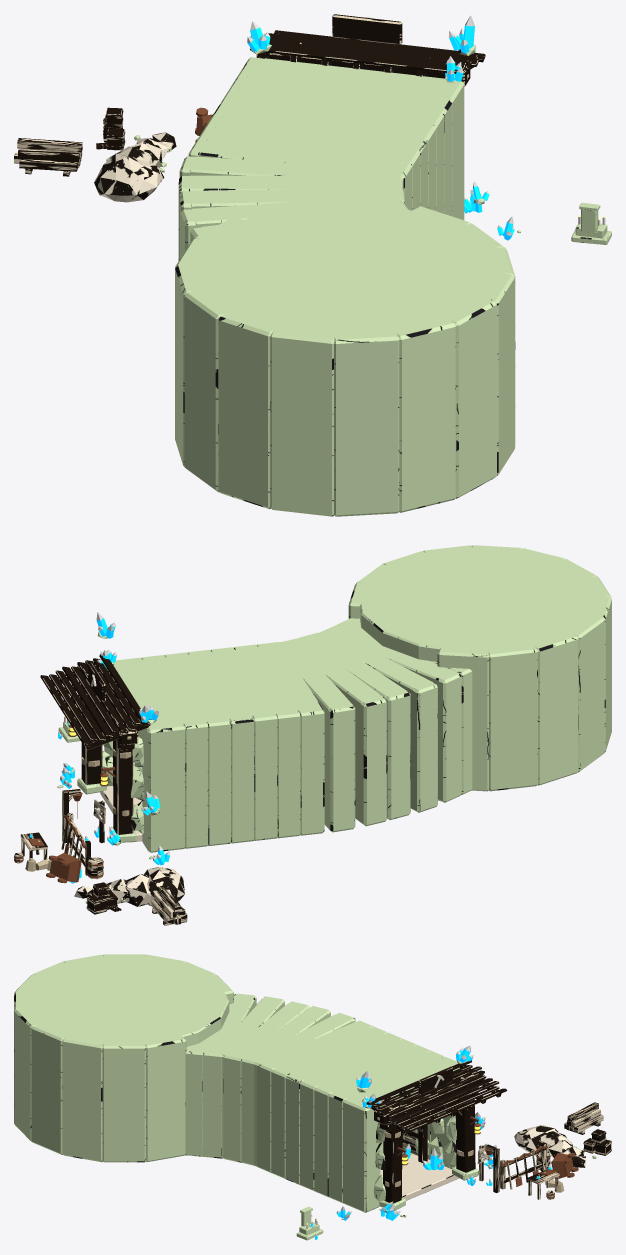
The model's file is LOBBY_04_MINE_dd376e.fbx.
3 views of the same model, one above another, from view 1: azimuth 30°, elevation 25°; view 2: azimuth 150°, elevation 25°; view 3: azimuth 270°, elevation 25° (orthographic). The views are drawn at different scales.
Parts seen in each view (by area): view 1: MINE_Tunnel_Shell__Cliff_Rock_Dark, MINE_Entrance_Portal__Wood_Plank_B, MINE_Entrance_Portal__Wood_Dark, MINE_Entrance_Portal__Dirt, MINE_Entrance_Portal__Crystal_Blue, MINE_Entrance_Portal__Cliff_Rock_Dark_B, MINE_Entrance_Portal__Wood_Dark_B; view 2: MINE_Tunnel_Shell__Cliff_Rock_Dark, MINE_Entrance_Portal__Wood_Plank_B, MINE_Entrance_Portal__Wood_Dark, MINE_Entrance_Portal__Dirt, MINE_Entrance_Portal__Metal_Rust, MINE_Entrance_Portal__Crystal_Blue, MINE_Entrance_Portal__Cliff_Rock_Dark_B, MINE_Entrance_Portal__Wood_Dark_B, MINE_Entrance_Portal__Crystal_Blue_Core, MINE_Entrance_Portal__Rope; view 3: MINE_Tunnel_Shell__Cliff_Rock_Dark, MINE_Entrance_Portal__Wood_Plank_B, MINE_Entrance_Portal__Wood_Dark, MINE_Entrance_Portal__Dirt, MINE_Tunnel_Shell__Dirt, MINE_Entrance_Portal__Crystal_Blue, MINE_Entrance_Portal__Metal_Rust, MINE_Entrance_Portal__Cliff_Rock_Dark_B, MINE_Entrance_Portal__Crystal_Blue_Core, MINE_Entrance_Portal__Wood_Dark_B, MINE_Entrance_Portal__Rope.
Boxes of the visible parts, left/top/right/bottom form: MINE_Tunnel_Shell__Cliff_Rock_Dark: left=175, top=57, right=515, bottom=516; MINE_Entrance_Portal__Wood_Plank_B: left=14, top=30, right=485, bottom=171; MINE_Entrance_Portal__Wood_Dark: left=25, top=14, right=473, bottom=176; MINE_Entrance_Portal__Dirt: left=94, top=132, right=176, bottom=202; MINE_Entrance_Portal__Crystal_Blue: left=247, top=25, right=514, bottom=240; MINE_Entrance_Portal__Cliff_Rock_Dark_B: left=134, top=44, right=611, bottom=244; MINE_Entrance_Portal__Wood_Dark_B: left=96, top=107, right=124, bottom=150; MINE_Tunnel_Shell__Cliff_Rock_Dark: left=102, top=545, right=611, bottom=852; MINE_Entrance_Portal__Wood_Plank_B: left=14, top=654, right=187, bottom=924; MINE_Entrance_Portal__Wood_Dark: left=21, top=662, right=186, bottom=925; MINE_Entrance_Portal__Dirt: left=74, top=867, right=184, bottom=906; MINE_Entrance_Portal__Metal_Rust: left=14, top=718, right=115, bottom=883; MINE_Entrance_Portal__Crystal_Blue: left=29, top=618, right=169, bottom=883; MINE_Entrance_Portal__Cliff_Rock_Dark_B: left=38, top=631, right=160, bottom=903; MINE_Entrance_Portal__Wood_Dark_B: left=87, top=799, right=121, bottom=914; MINE_Entrance_Portal__Crystal_Blue_Core: left=30, top=612, right=169, bottom=869; MINE_Entrance_Portal__Rope: left=25, top=701, right=131, bottom=908; MINE_Tunnel_Shell__Cliff_Rock_Dark: left=14, top=954, right=459, bottom=1212; MINE_Entrance_Portal__Wood_Plank_B: left=366, top=1060, right=603, bottom=1199; MINE_Entrance_Portal__Wood_Dark: left=371, top=1065, right=611, bottom=1203; MINE_Entrance_Portal__Dirt: left=514, top=1125, right=586, bottom=1167; MINE_Tunnel_Shell__Dirt: left=380, top=1153, right=459, bottom=1200; MINE_Entrance_Portal__Crystal_Blue: left=309, top=1048, right=551, bottom=1239; MINE_Entrance_Portal__Metal_Rust: left=397, top=1116, right=578, bottom=1198; MINE_Entrance_Portal__Cliff_Rock_Dark_B: left=296, top=1060, right=596, bottom=1240; MINE_Entrance_Portal__Crystal_Blue_Core: left=309, top=1045, right=552, bottom=1236; MINE_Entrance_Portal__Wood_Dark_B: left=477, top=1129, right=611, bottom=1163; MINE_Entrance_Portal__Rope: left=377, top=1071, right=564, bottom=1192.
Size of the model in its own units: 61.86 by 23.83 by 88.37.
Materials: 13 (3 with a texture image).
